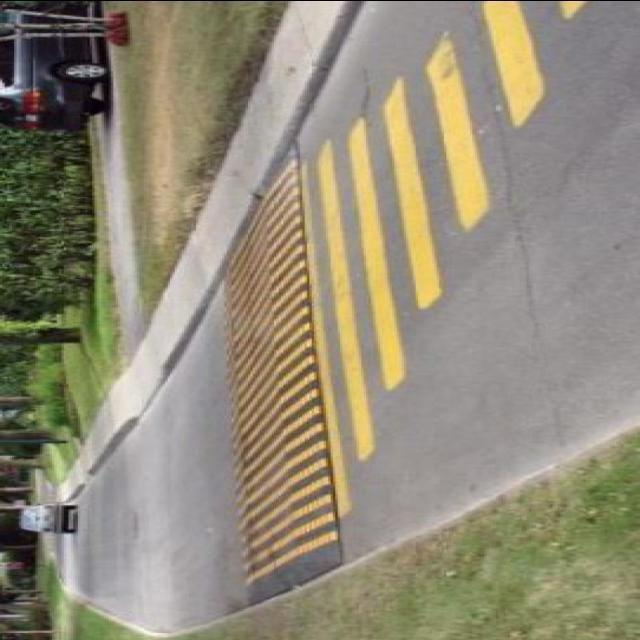speedbreaker: (219, 140, 343, 604)
